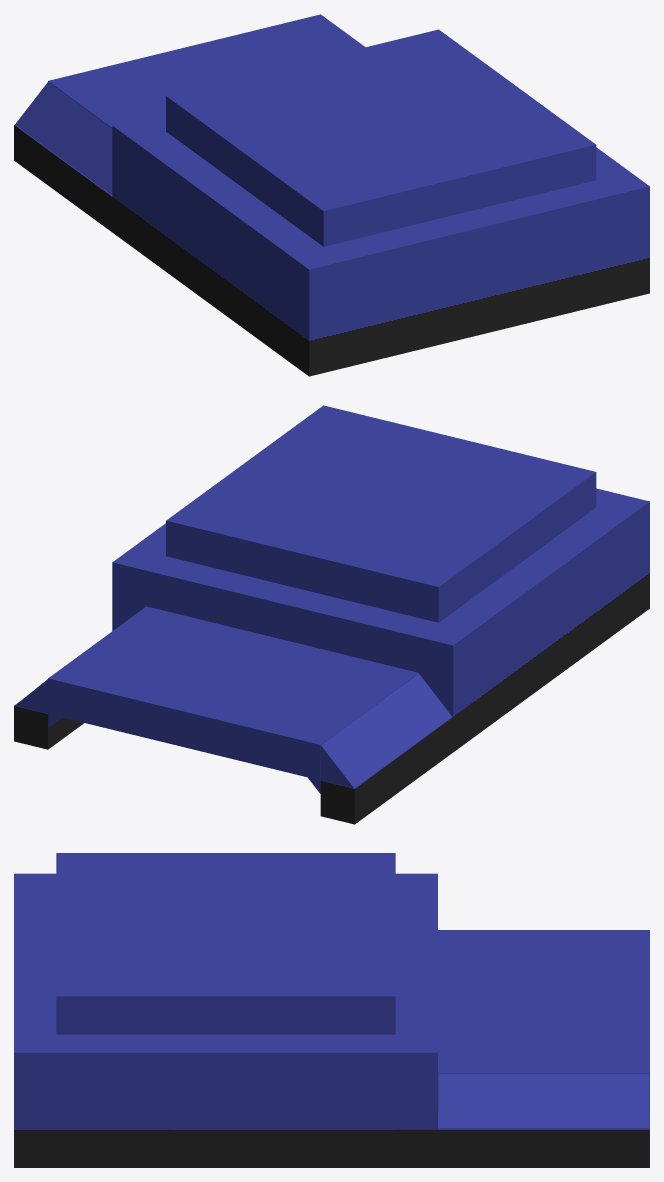
The model's file is simple_suit_caps.fbx.
3 views of the same model, one above another, from view 1: azimuth 30°, elevation 25°; view 2: azimuth 150°, elevation 25°; view 3: azimuth 270°, elevation 25° (orthographic). The views are drawn at different scales.
Visible parts, largest first — view 1: head; view 2: head; view 3: head.
Part boxes in pixels (x1,y1,x2,y2): head: (14,14,649,376); head: (14,405,649,824); head: (14,853,649,1167).
Size of the model in its own units: 62.5 by 25 by 93.75.
Materials: 1 (1 with a texture image).
